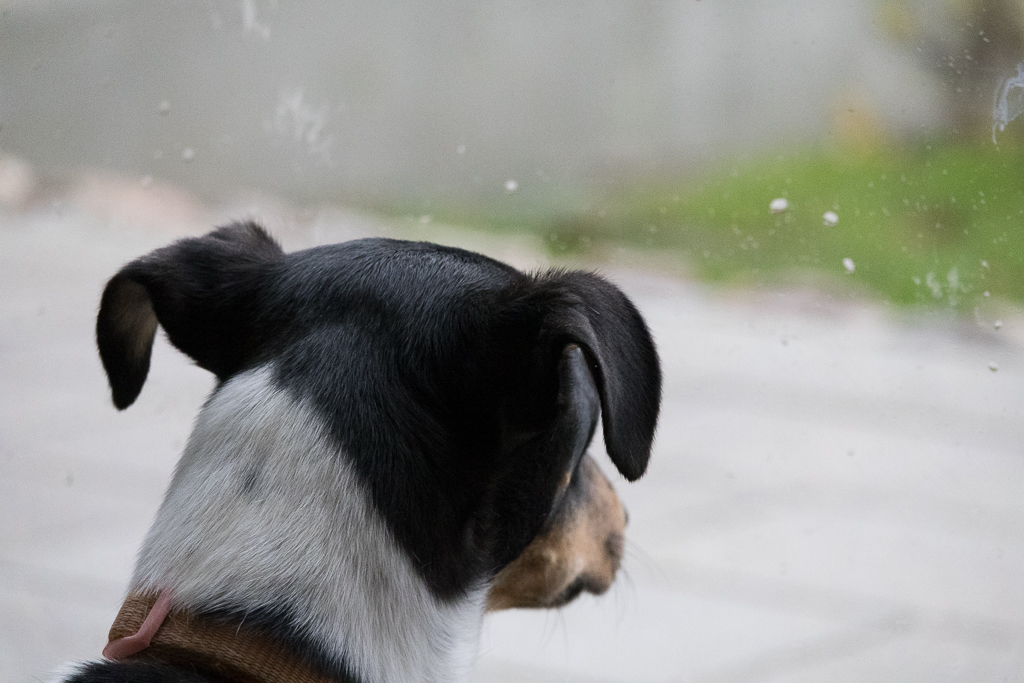Dog: (48, 201, 675, 683)
